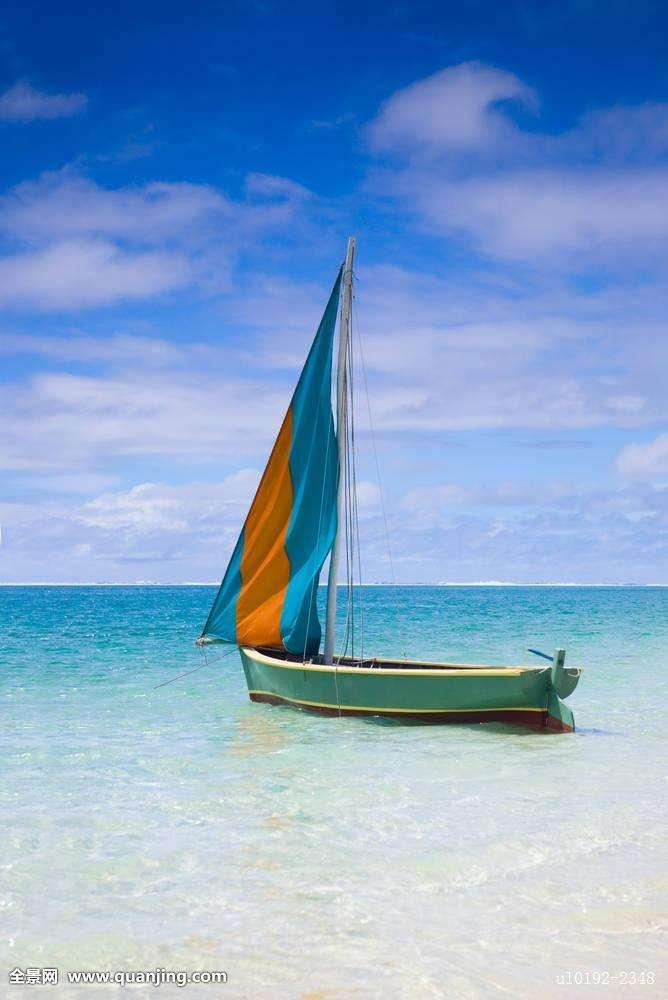fanchuan: (197, 235, 601, 736)
